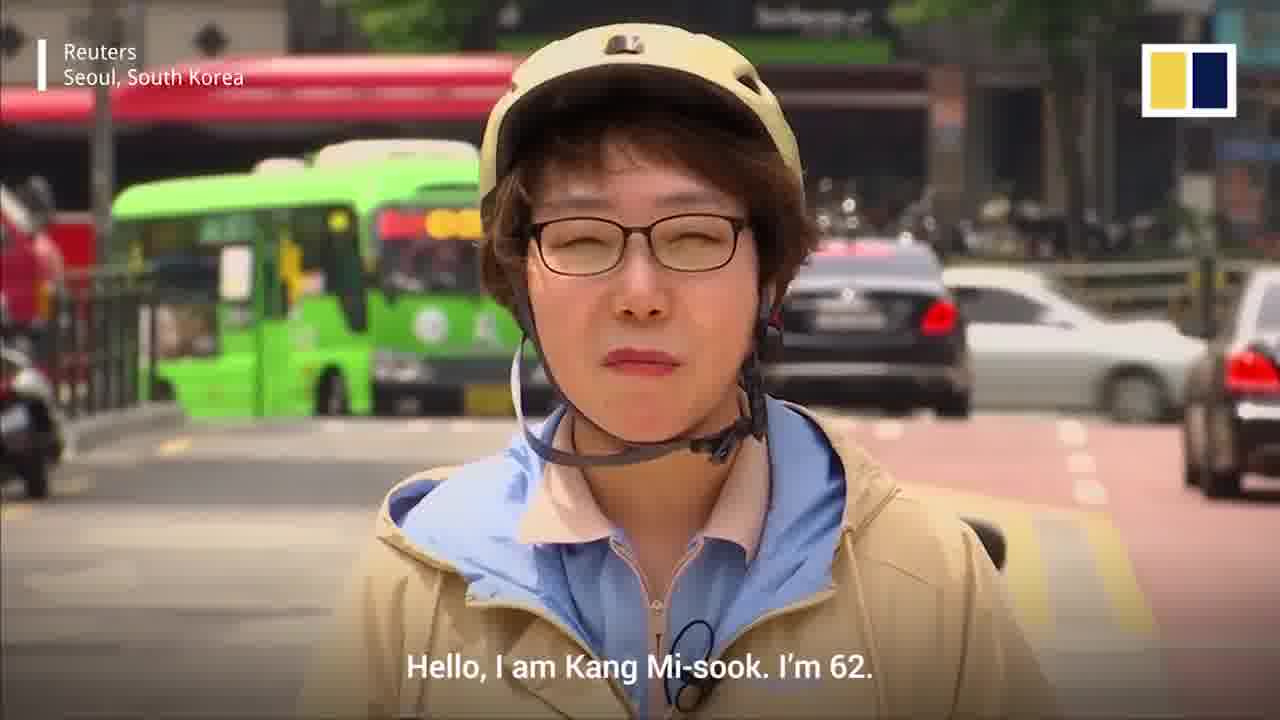Yakurut: (309, 16, 1078, 720)
